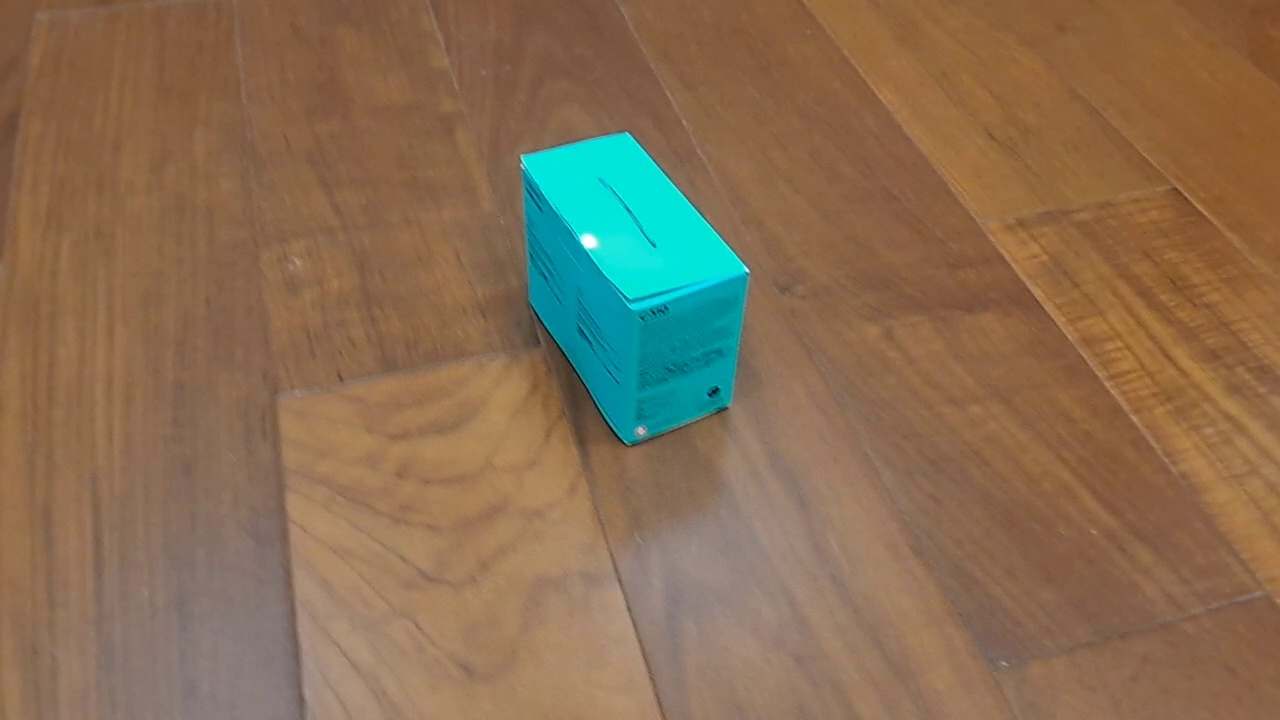webcam: (518, 130, 752, 449)
